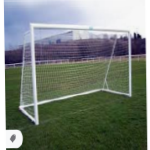goals: (19, 21, 134, 123)
